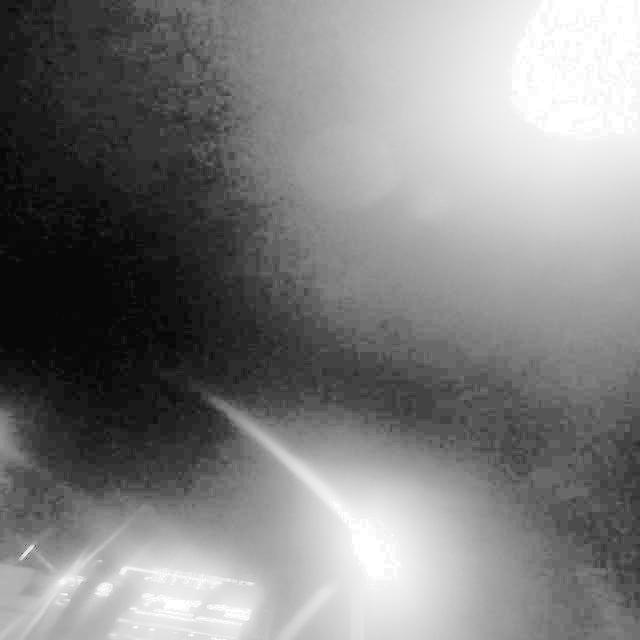Light: (484, 5, 629, 165), (341, 506, 417, 603)
